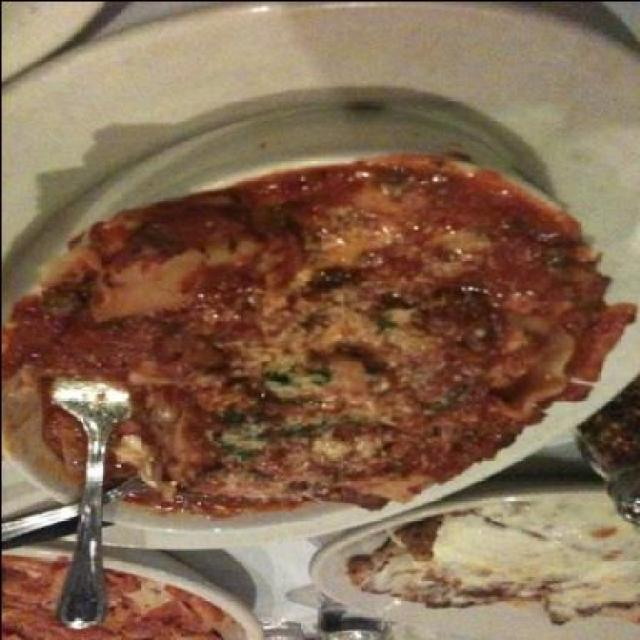Pasta: (2, 134, 590, 522)
